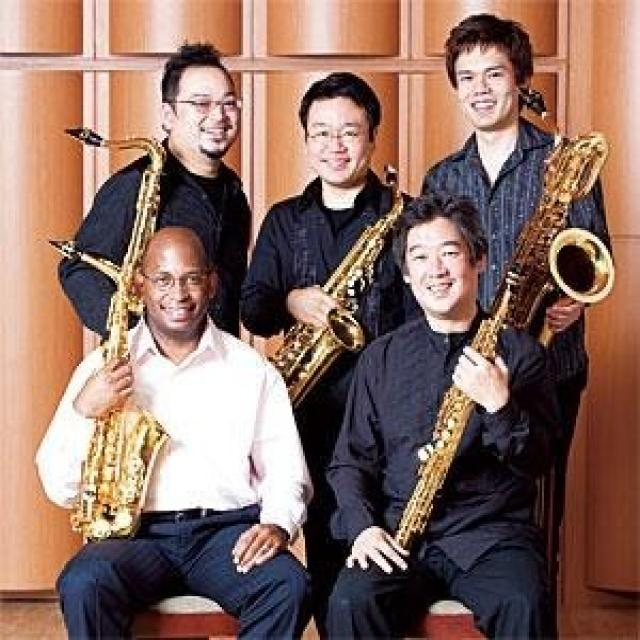saxophone: (48, 236, 170, 546), (270, 162, 408, 406), (493, 92, 618, 331), (72, 119, 176, 238)
